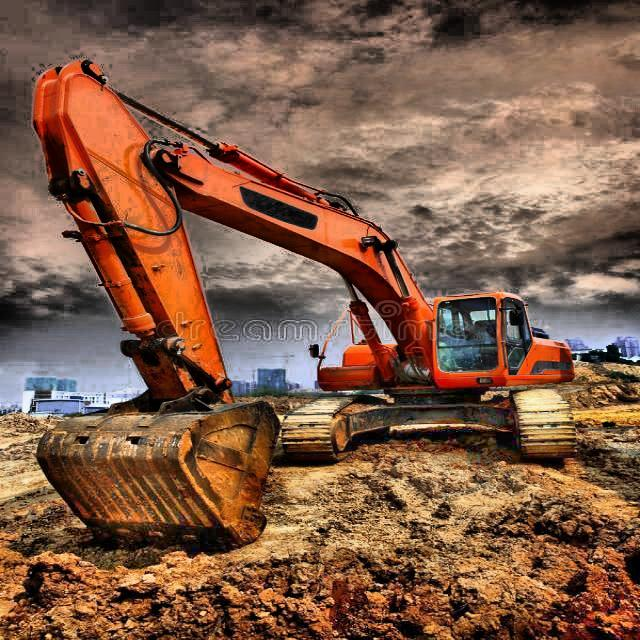excavator: (32, 56, 580, 556)
